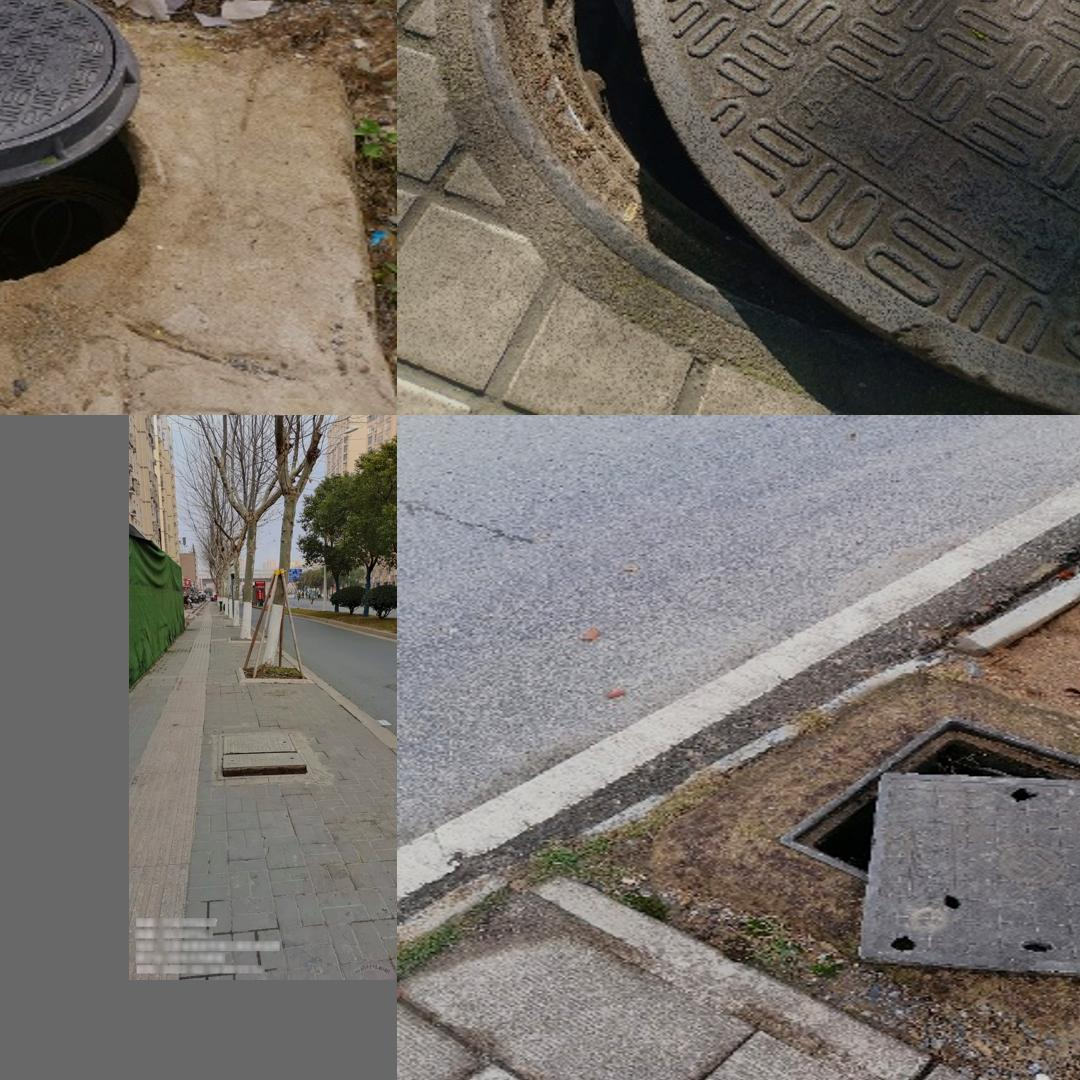uncovered: (475, 0, 1080, 415), (775, 716, 1080, 987), (0, 0, 149, 280), (218, 729, 314, 780)
